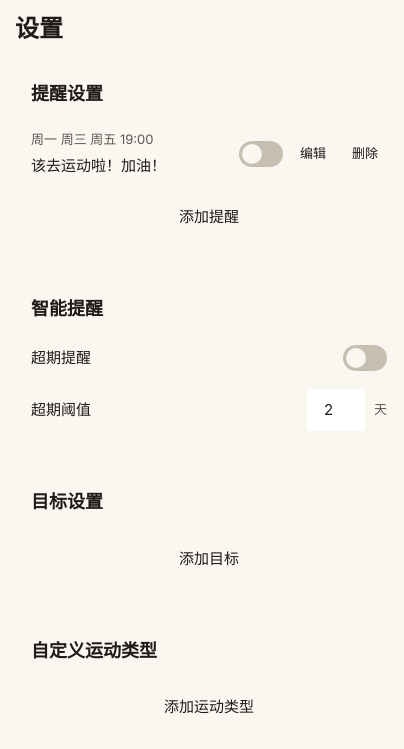
Test: Settings 设置页 › 提醒设置区：点击添加按钮新增提醒
Click the button "添加提醒" at (209, 217), box [31,195,387,239]
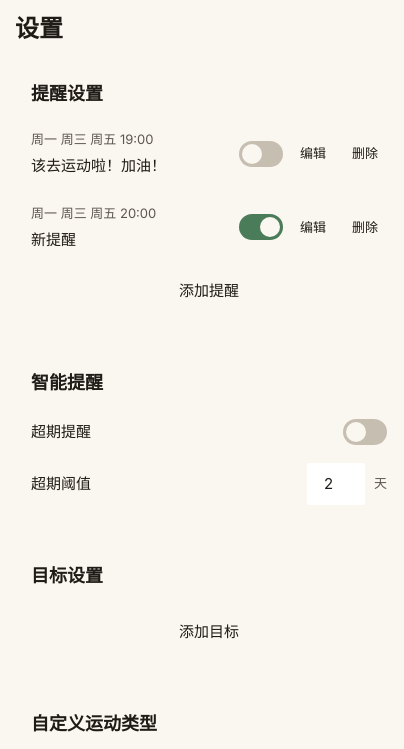
Expected: the text "新提醒" is shown, [31,230,76,249]
